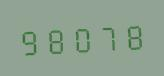eight: (43, 22, 67, 56), (118, 18, 142, 52)
nine: (18, 23, 42, 58)
seven: (93, 19, 117, 54)
zero: (68, 20, 92, 55)
